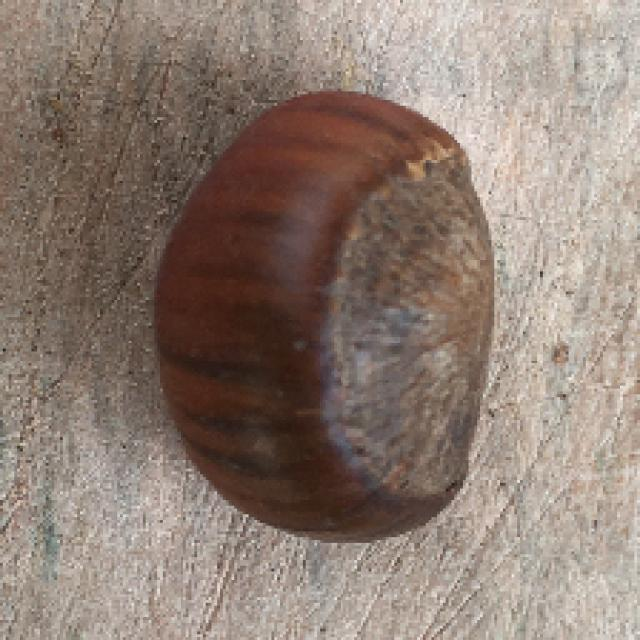damagedHazelnut: (148, 81, 492, 548)
